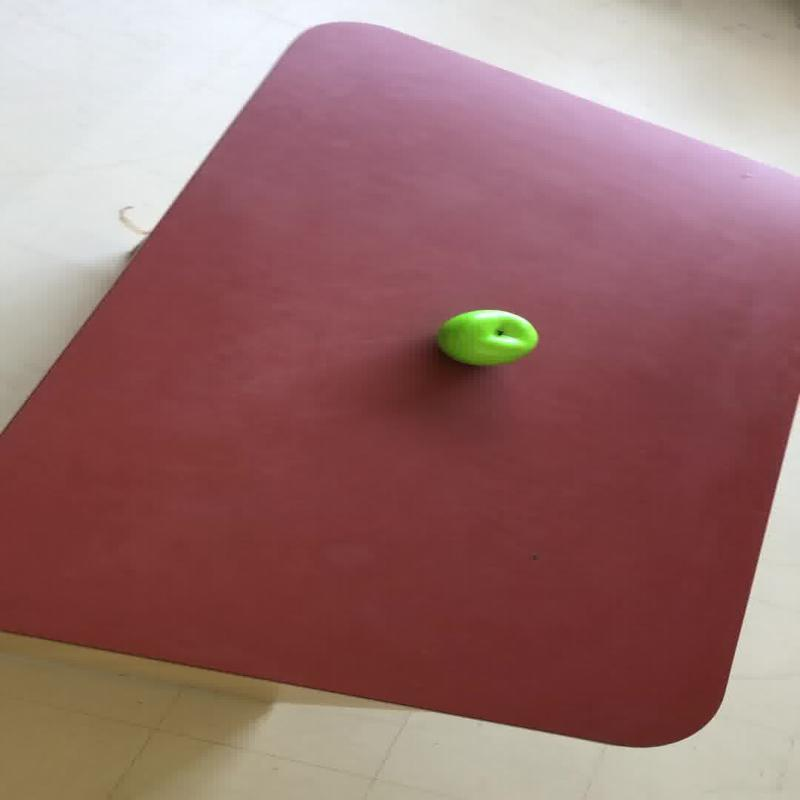apple: (435, 308, 538, 366)
